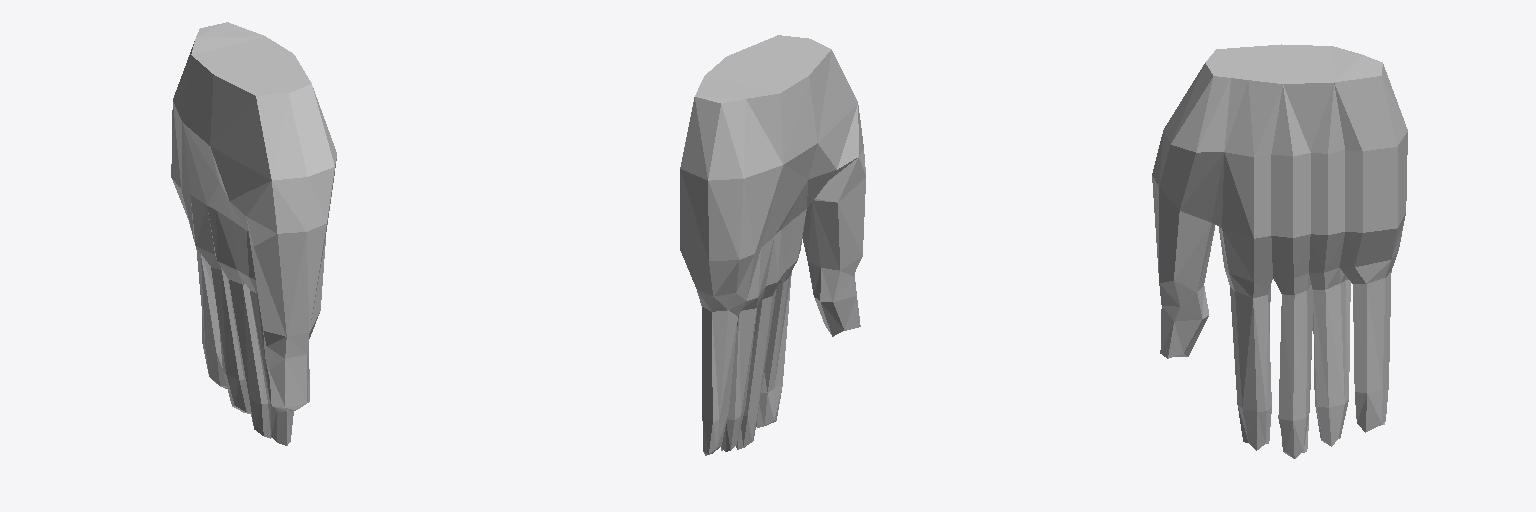
Rendered from lefthand.obj.
The picture shows the model from 3 angles: view 1: azimuth 30°, elevation 25°; view 2: azimuth 150°, elevation 25°; view 3: azimuth 270°, elevation 25°; orthographic projection.
Visible parts, largest first — view 1: cube1_cut4; view 2: cube1_cut4; view 3: cube1_cut4.
Boxes of the visible parts, x1=… form: cube1_cut4: x1=171, y1=22, x2=336, y2=445; cube1_cut4: x1=680, y1=35, x2=865, y2=455; cube1_cut4: x1=1152, y1=44, x2=1407, y2=458.
Bounding box in the file's own units: 0.2622 × 0.9563 × 0.5779.